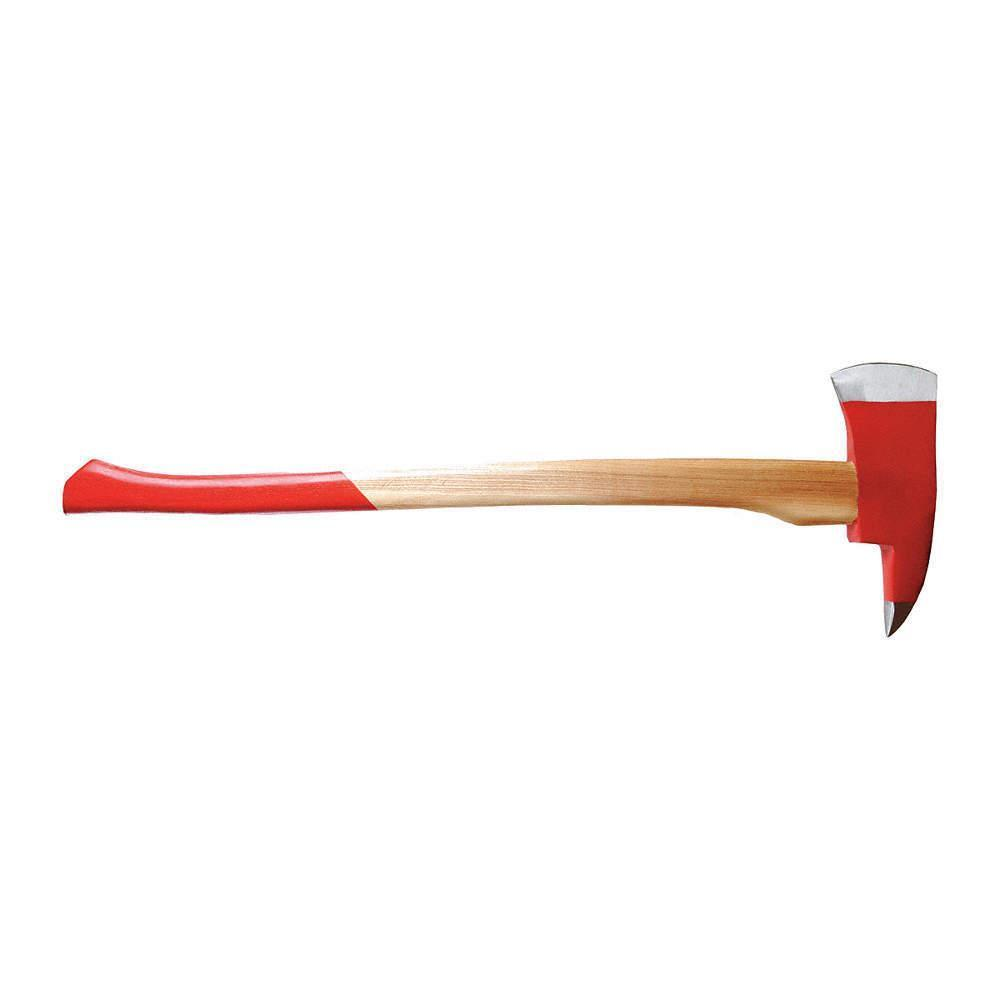machado: (62, 364, 936, 634)
